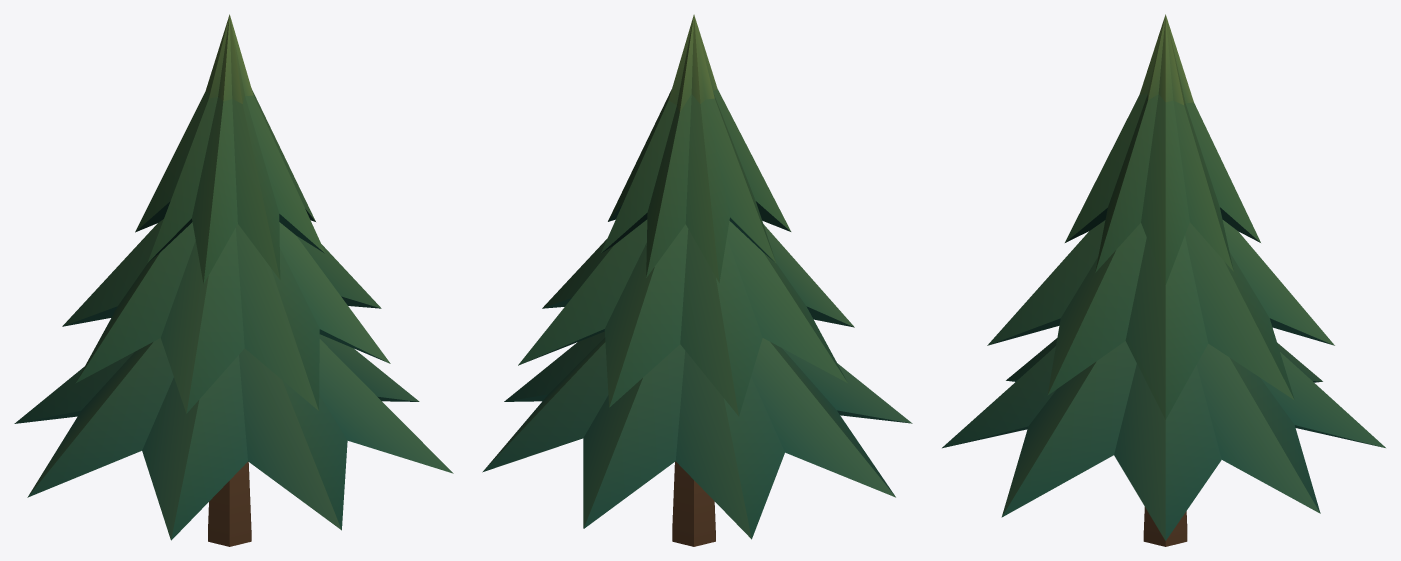
3 renders of one model, left to right at view 1: azimuth 30°, elevation 25°; view 2: azimuth 150°, elevation 25°; view 3: azimuth 270°, elevation 25°, orthographic.
Parts seen in each view (by area): view 1: prop_pine_wide; view 2: prop_pine_wide; view 3: prop_pine_wide.
Boxes of the visible parts, x1,y1,x2,y2 form: prop_pine_wide: (14, 14, 453, 546); prop_pine_wide: (482, 14, 912, 546); prop_pine_wide: (942, 14, 1385, 546).
Size of the model in its own units: 4.72 by 6 by 4.64.
